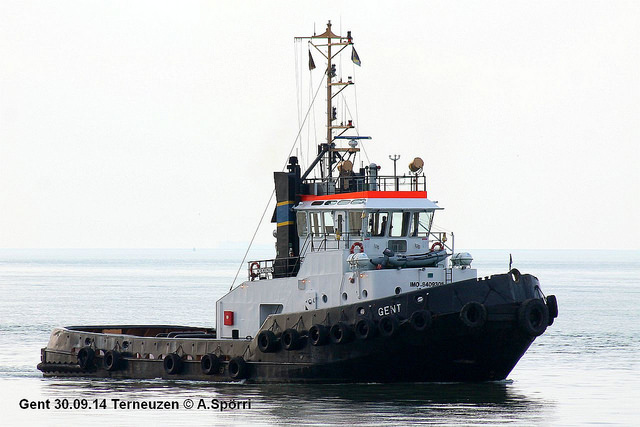tug_boat: (39, 29, 566, 394)
